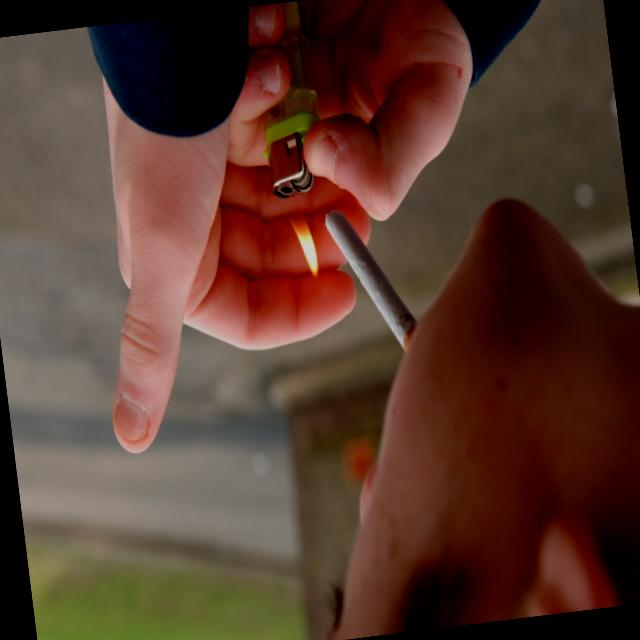smoke: (318, 192, 424, 365)
